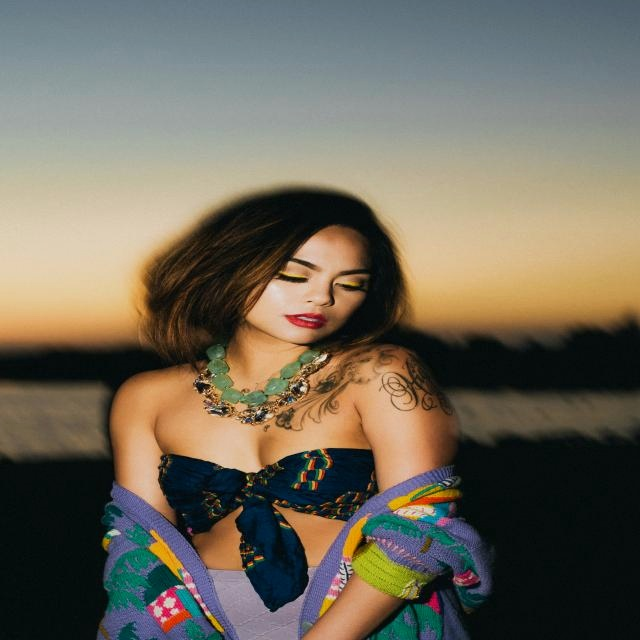Crop_Top: (152, 473, 378, 563)
Sleeveless: (353, 341, 439, 403), (109, 365, 183, 413)
low_neckline: (156, 344, 376, 502)
